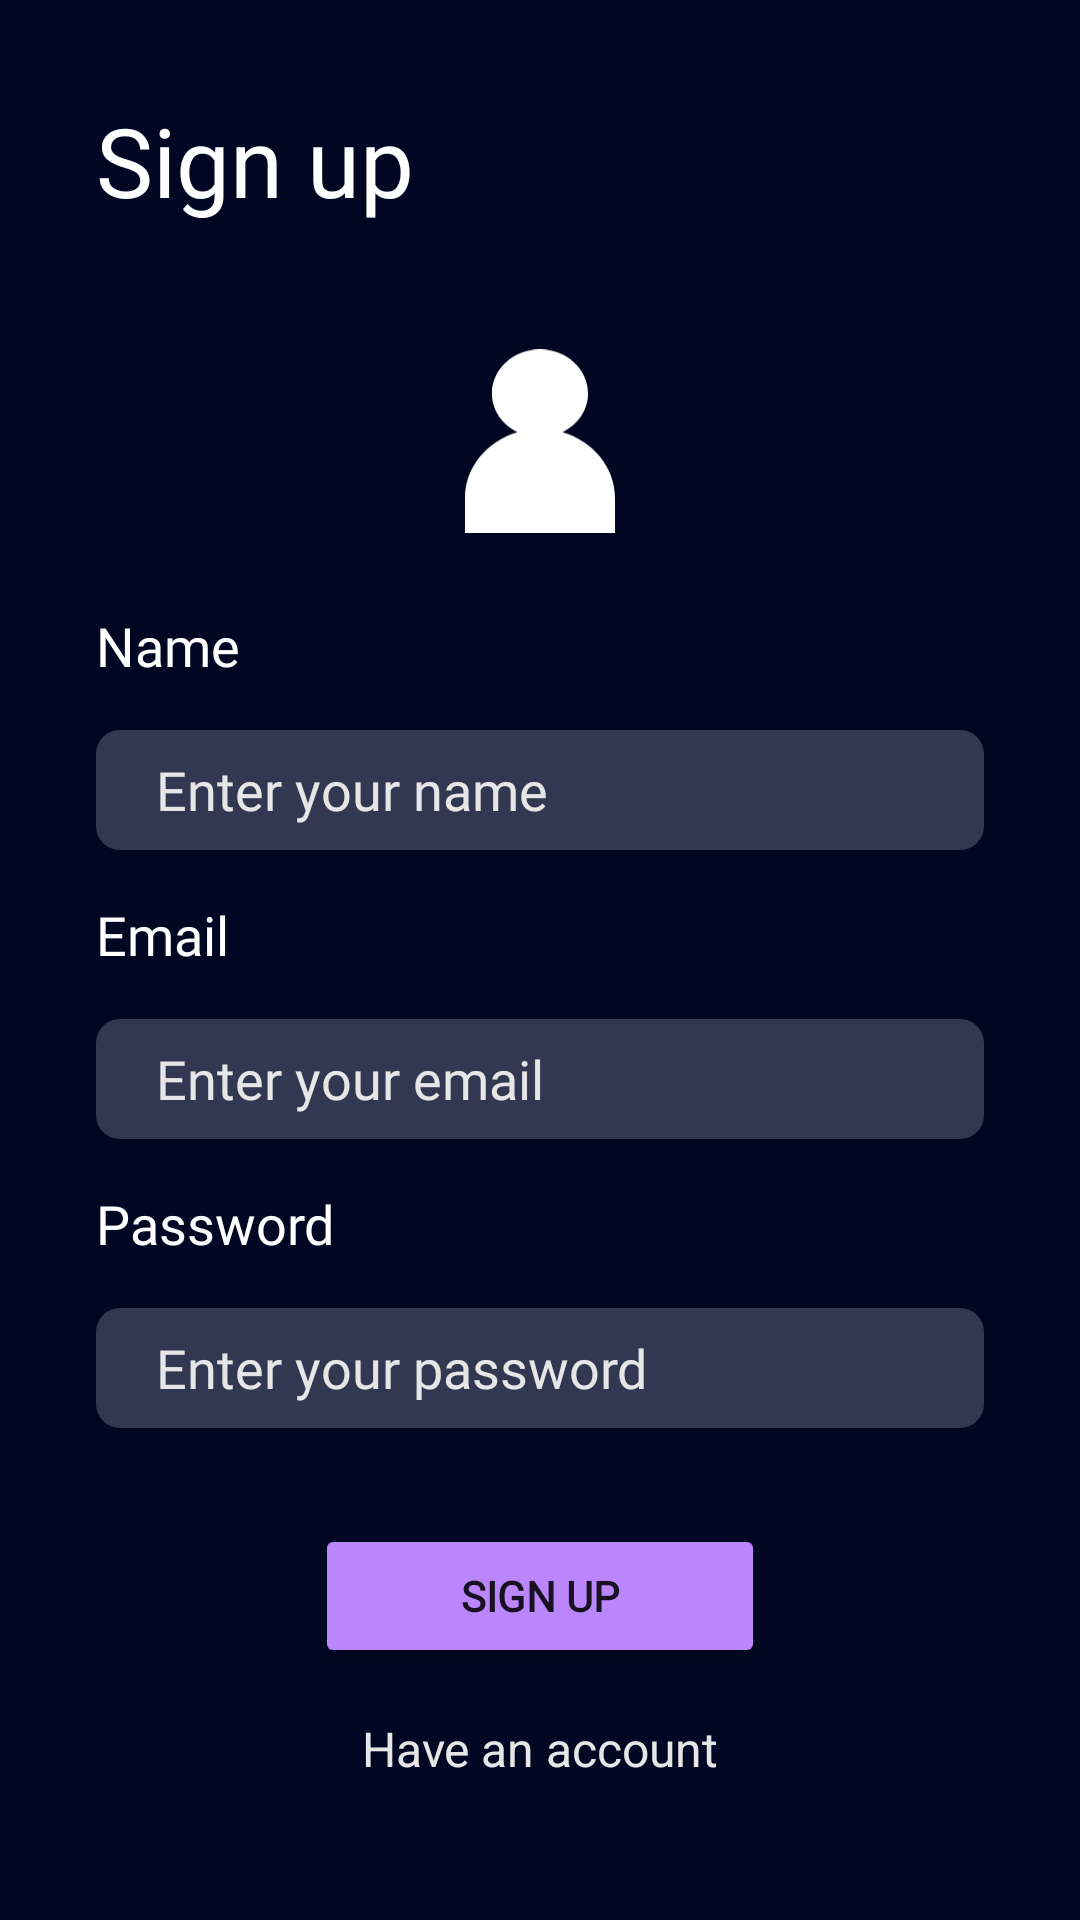

Icon bounding boxes for this 1080w x 1920h phone screenshot, format (x1, y1, x2, y2):
person: (465, 349, 615, 533)
